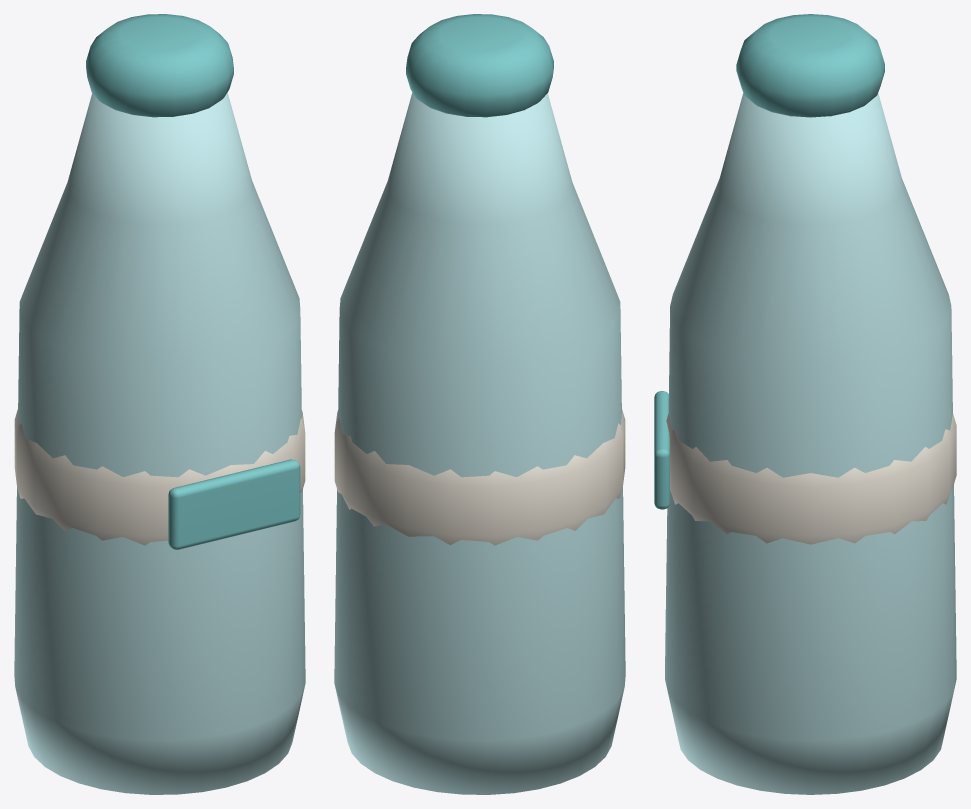
File: Water.fbx
3 views of the same model, side by side, from view 1: azimuth 30°, elevation 25°; view 2: azimuth 150°, elevation 25°; view 3: azimuth 270°, elevation 25° (orthographic).
Visible parts, largest first — view 1: Bottle, Cap, Label, DateMark; view 2: Bottle, Label, Cap; view 3: Bottle, Label, Cap, DateMark.
Part boxes in pixels (x1,y1,x2,y2): Bottle: [14, 92, 305, 794]; Cap: [86, 14, 233, 117]; Label: [14, 409, 305, 545]; DateMark: [168, 459, 300, 549]; Bottle: [334, 92, 625, 794]; Label: [334, 409, 625, 545]; Cap: [406, 14, 553, 117]; Bottle: [665, 93, 956, 794]; Label: [666, 413, 956, 544]; Cap: [736, 14, 884, 117]; DateMark: [654, 391, 669, 509].
Size of the model in its own units: 11 by 29.3 by 11.4.
